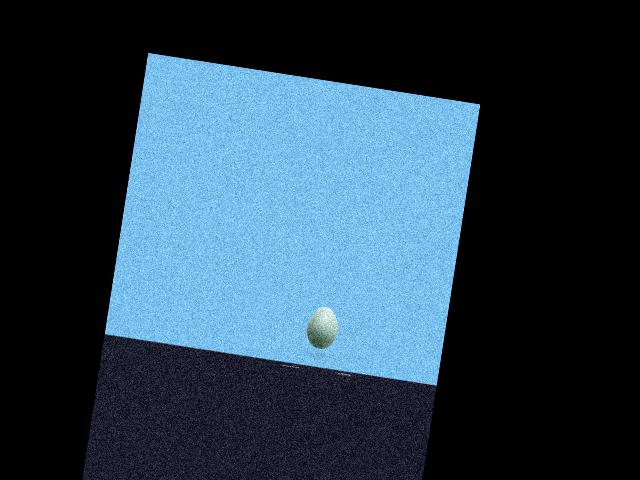egg: (303, 304, 340, 350)
